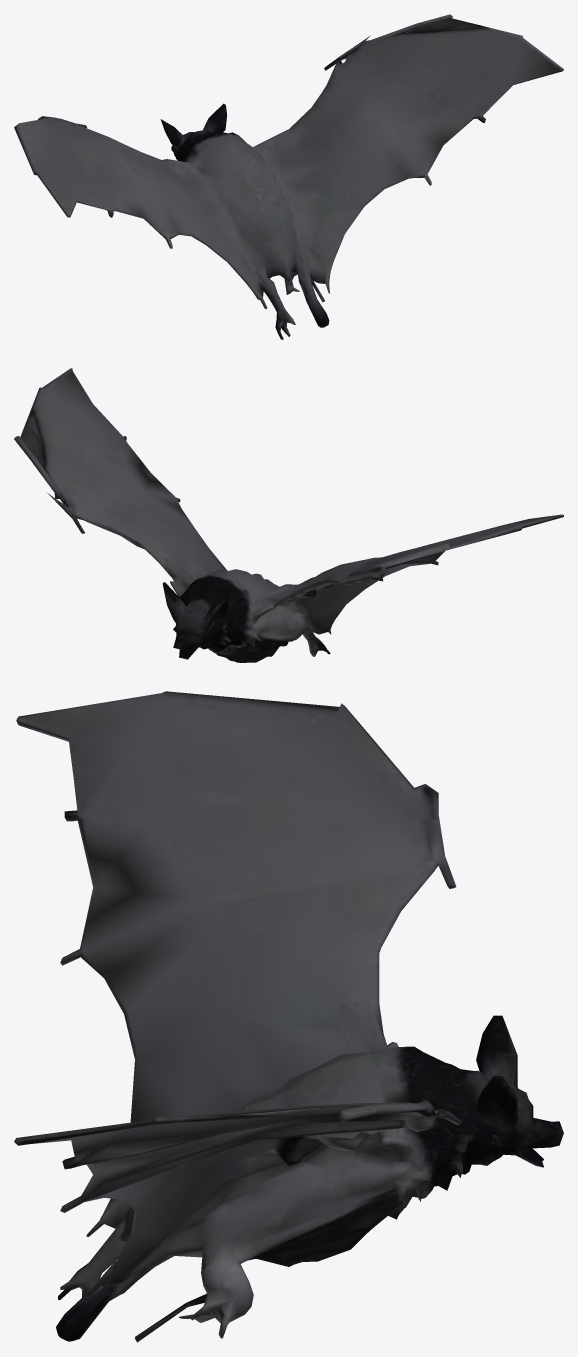
Rendered from adit_bat.glb.
3 views of the same model, one above another, from view 1: azimuth 30°, elevation 25°; view 2: azimuth 150°, elevation 25°; view 3: azimuth 270°, elevation 25° (orthographic). The views are drawn at different scales.
Visible parts, largest first — view 1: base_model_path; view 2: base_model_path; view 3: base_model_path.
Part boxes in pixels (box(x1,y1,x2,y2)): base_model_path: box(14, 14, 563, 339); base_model_path: box(14, 368, 563, 662); base_model_path: box(14, 691, 563, 1342).
Size of the model in its own units: 1 by 0.4325 by 0.4892.
1 material, 1 textured.
